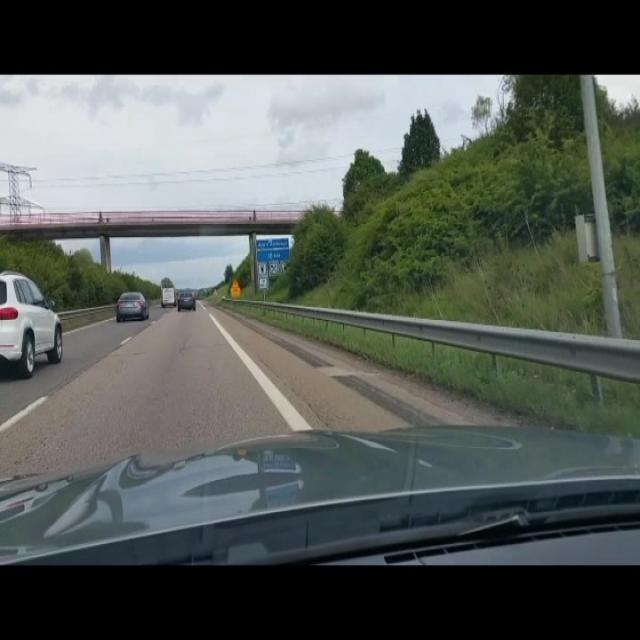indication: (256, 239, 290, 261)
